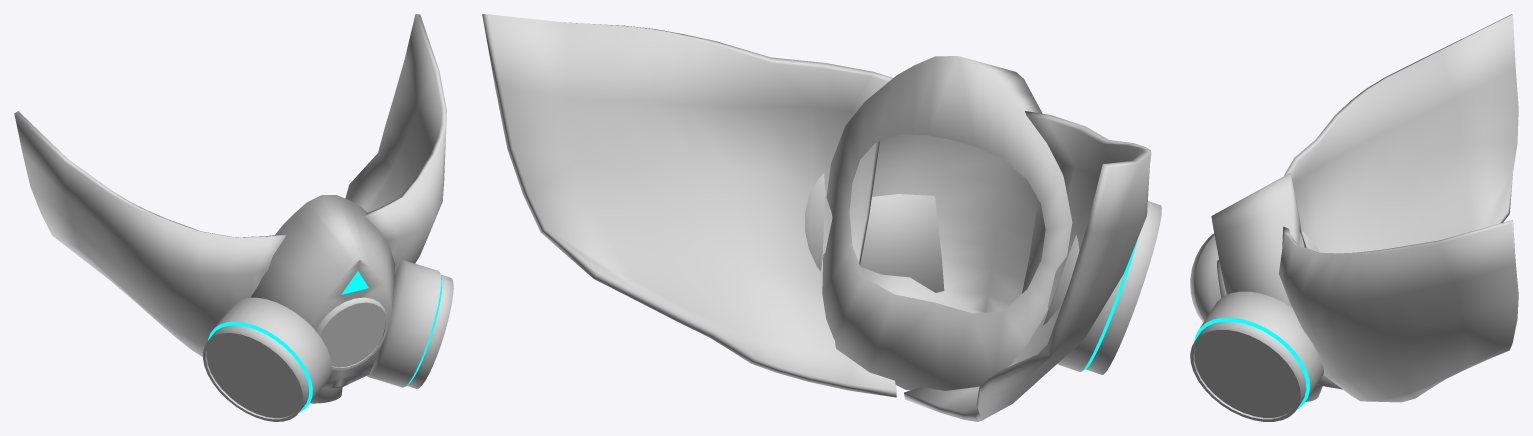
File: _gasmask.glb
3 renders of one model, left to right at view 1: azimuth 30°, elevation 25°; view 2: azimuth 150°, elevation 25°; view 3: azimuth 270°, elevation 25°, orthographic. The views are drawn at different scales.
Parts seen in each view (by area): view 1: Plane.005, Cylinder, GasMask, Circle.002, Cylinder.001; view 2: Plane.005, GasMask, Cylinder; view 3: Plane.005, Cylinder, GasMask, Cylinder.001.
Boxes of the visible parts, x1=… form: Plane.005: x1=14, y1=14, x2=446, y2=356; Cylinder: x1=203, y1=260, x2=453, y2=421; GasMask: x1=250, y1=195, x2=395, y2=388; Circle.002: x1=316, y1=297, x2=387, y2=370; Cylinder.001: x1=208, y1=274, x2=442, y2=412; Plane.005: x1=482, y1=14, x2=1151, y2=421; GasMask: x1=822, y1=56, x2=1072, y2=390; Cylinder: x1=805, y1=173, x2=1161, y2=374; Plane.005: x1=1279, y1=14, x2=1518, y2=402; Cylinder: x1=1190, y1=231, x2=1323, y2=421; GasMask: x1=1211, y1=172, x2=1342, y2=389; Cylinder.001: x1=1194, y1=317, x2=1309, y2=409.
Size of the model in its own units: 0.1759 by 0.1087 by 0.1166.
